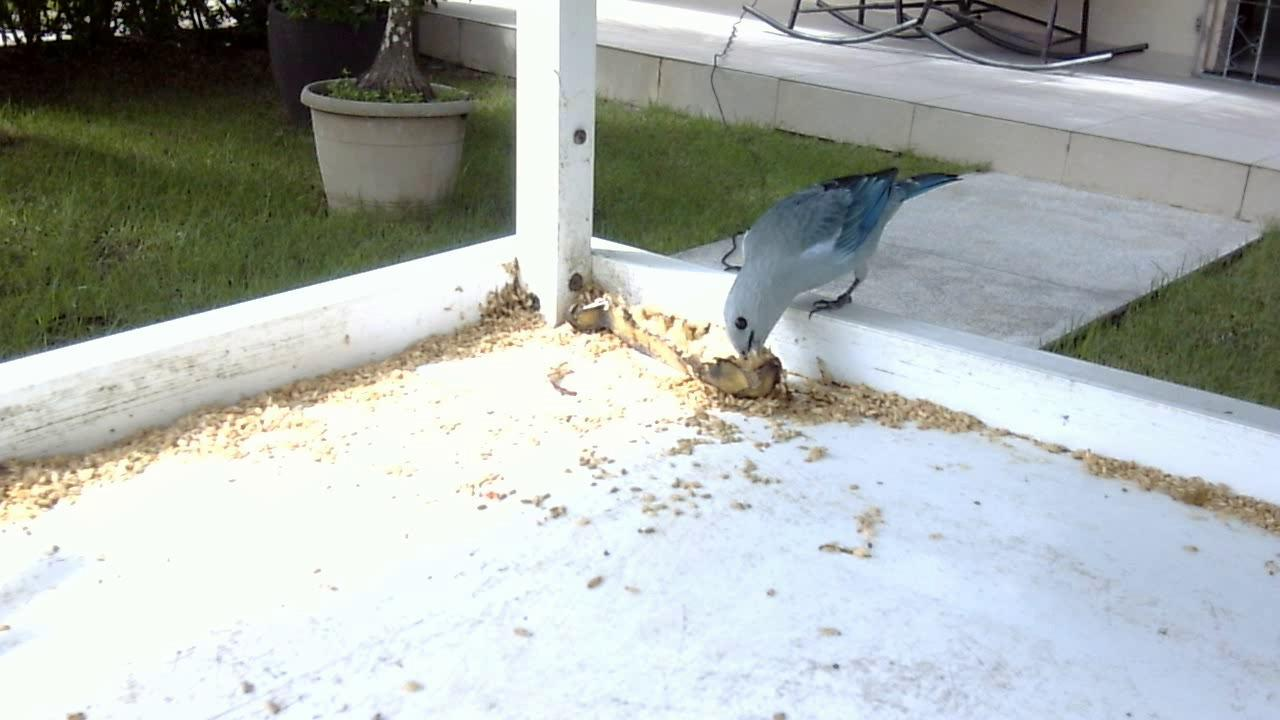sanhaco_da_amazonia: (695, 148, 972, 395)
